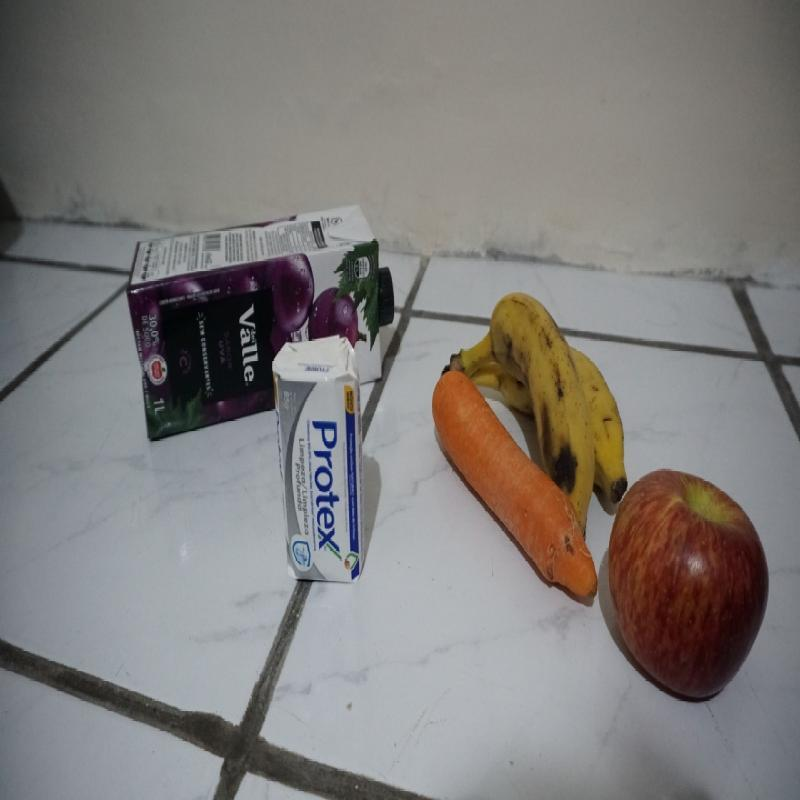Apple: (607, 467, 775, 704)
Banana: (441, 292, 631, 550)
Carrot: (432, 370, 600, 606)
Soap: (272, 335, 368, 587)
